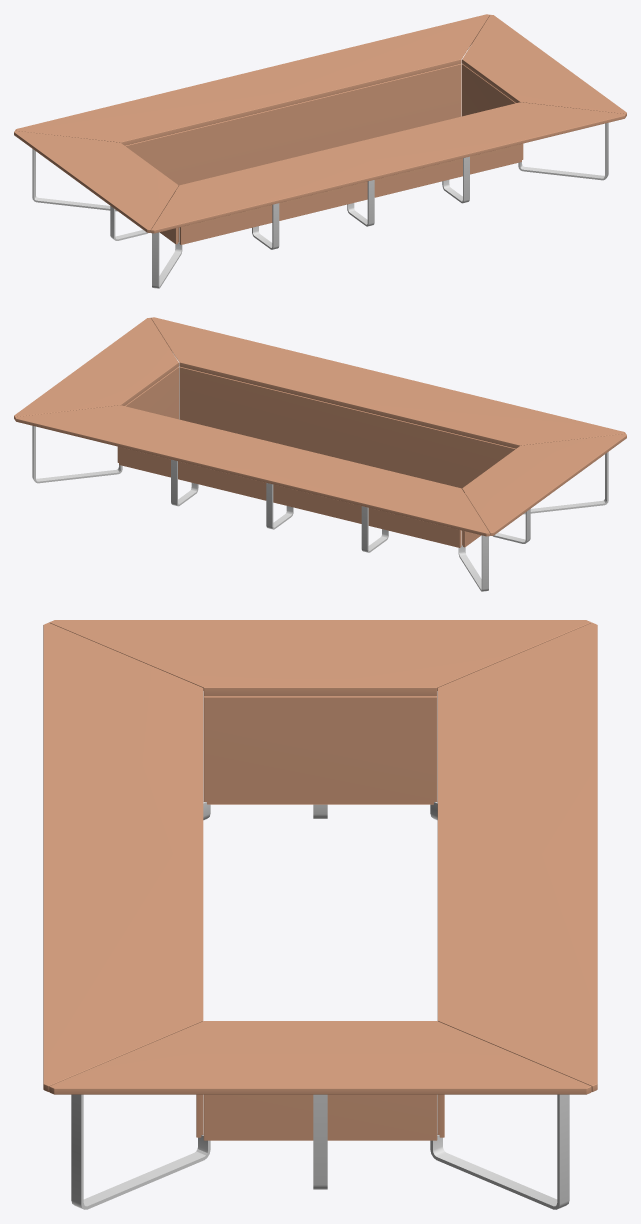
Rendered from Meeting Tisch4.fbx.
The picture shows the model from 3 angles, top to bottom: view 1: azimuth 30°, elevation 25°; view 2: azimuth 150°, elevation 25°; view 3: azimuth 270°, elevation 25°; orthographic projection. The views are drawn at different scales.
Visible parts, largest first — view 1: Plane.006, Plane.010, Plane.008, Plane.009; view 2: Plane.006, Plane.010, Plane.008, Plane.009; view 3: Plane.006, Plane.010, Plane.007.
Part boxes in pixels (bbox=[...]): Plane.006: bbox=[14, 14, 626, 244]; Plane.010: bbox=[32, 123, 608, 288]; Plane.008: bbox=[252, 156, 469, 249]; Plane.009: bbox=[347, 180, 374, 226]; Plane.006: bbox=[14, 317, 626, 547]; Plane.010: bbox=[32, 426, 608, 591]; Plane.008: bbox=[171, 459, 388, 552]; Plane.009: bbox=[266, 483, 293, 529]; Plane.006: bbox=[43, 620, 597, 1140]; Plane.010: bbox=[71, 801, 569, 1209]; Plane.007: bbox=[313, 804, 327, 1189].
Bounding box in the file's own units: 600 × 80.78 × 300.
